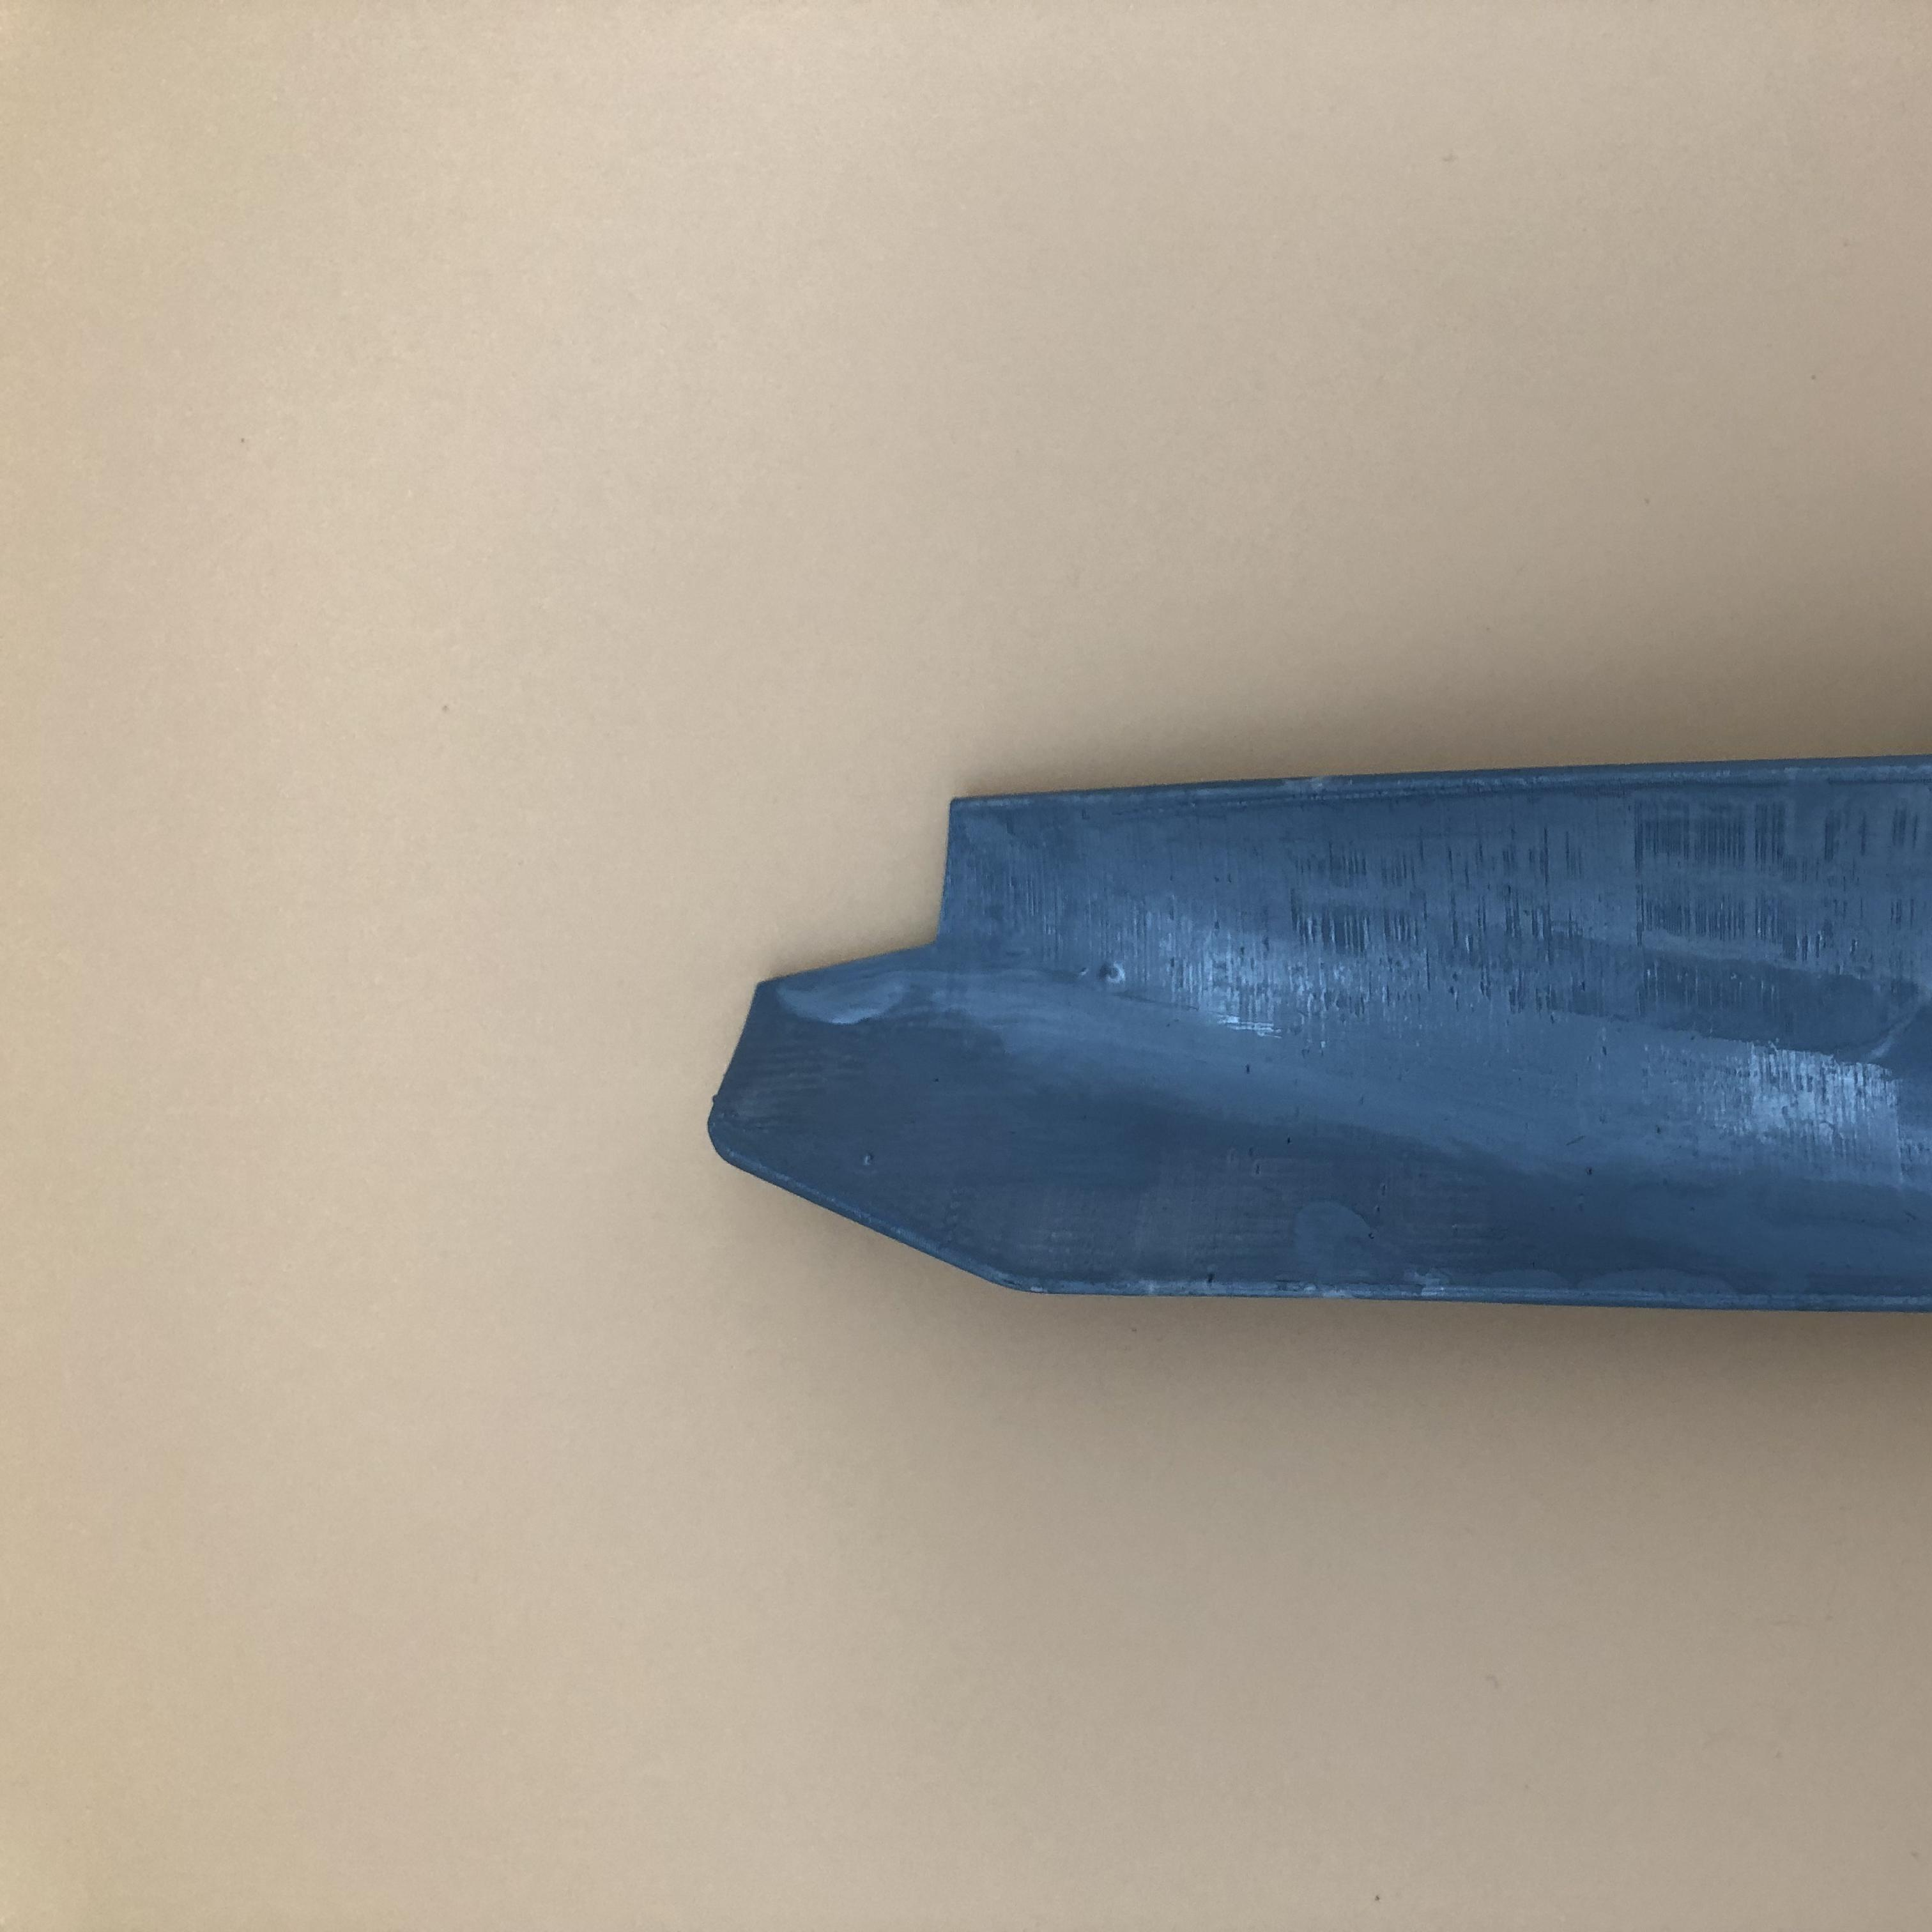fracture: (771, 817, 1001, 984)
